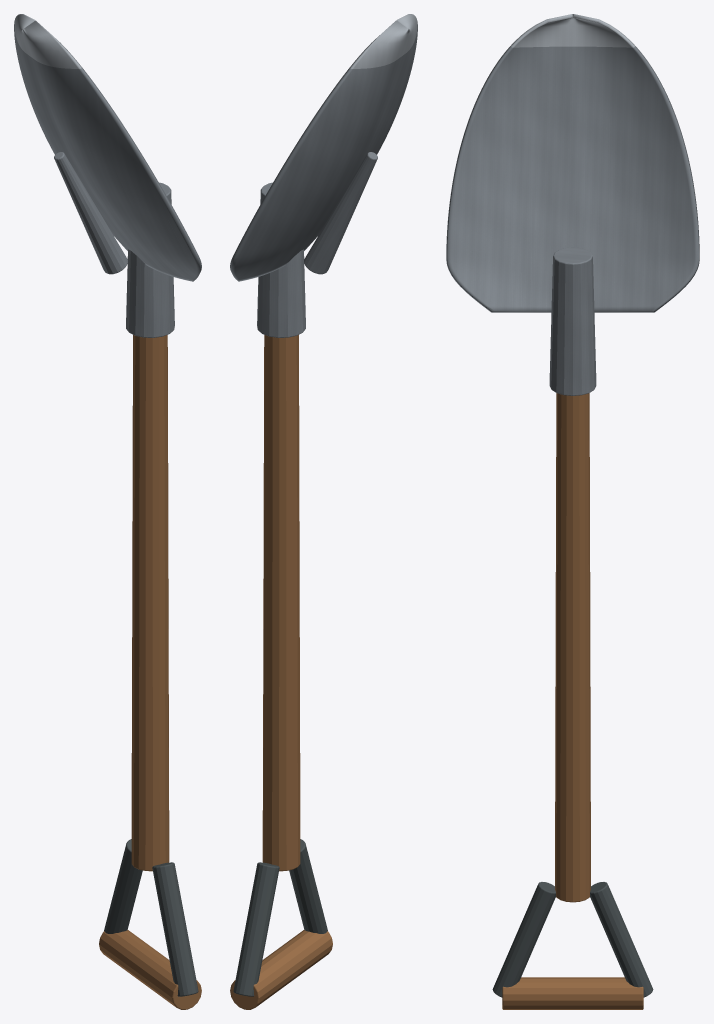
Rendered from Shovel.glb.
3 views of the same model, side by side, from view 1: azimuth 30°, elevation 25°; view 2: azimuth 150°, elevation 25°; view 3: azimuth 270°, elevation 25° (orthographic). The views are drawn at different scales.
Visible parts, largest first — view 1: Equipment.Shovel; view 2: Equipment.Shovel; view 3: Equipment.Shovel.
Boxes of the visible parts, x1,y1,x2,y2 form: Equipment.Shovel: (14,14,201,1009); Equipment.Shovel: (230,14,417,1009); Equipment.Shovel: (446,14,699,1009).
Size of the model in its own units: 0.1808 by 1.15 by 0.28.
Materials: 4 (2 with a texture image).
